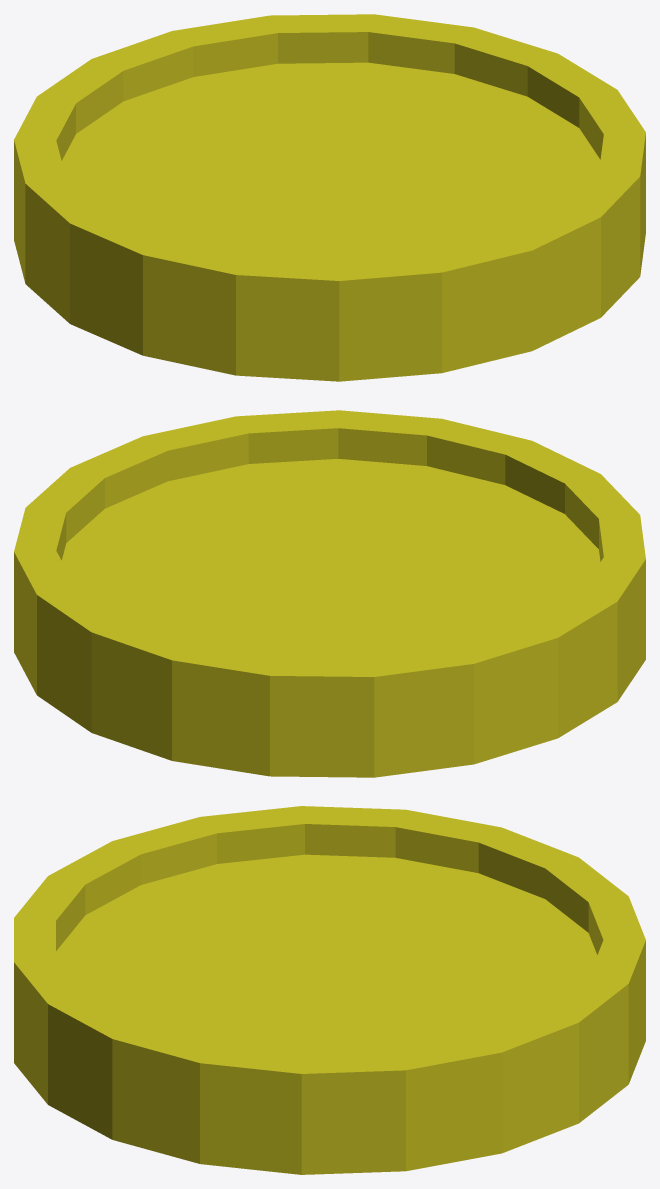
Rendered from coin.fbx.
3 renders of one model, top to bottom at view 1: azimuth 30°, elevation 25°; view 2: azimuth 150°, elevation 25°; view 3: azimuth 270°, elevation 25°, orthographic.
Visible parts, largest first — view 1: Cylinder; view 2: Cylinder; view 3: Cylinder.
Part boxes in pixels (<box>): Cylinder: <box>14,14,645,381</box>; Cylinder: <box>14,410,645,777</box>; Cylinder: <box>14,806,645,1174</box>.
Size of the model in its own units: 199 by 35 by 199.
